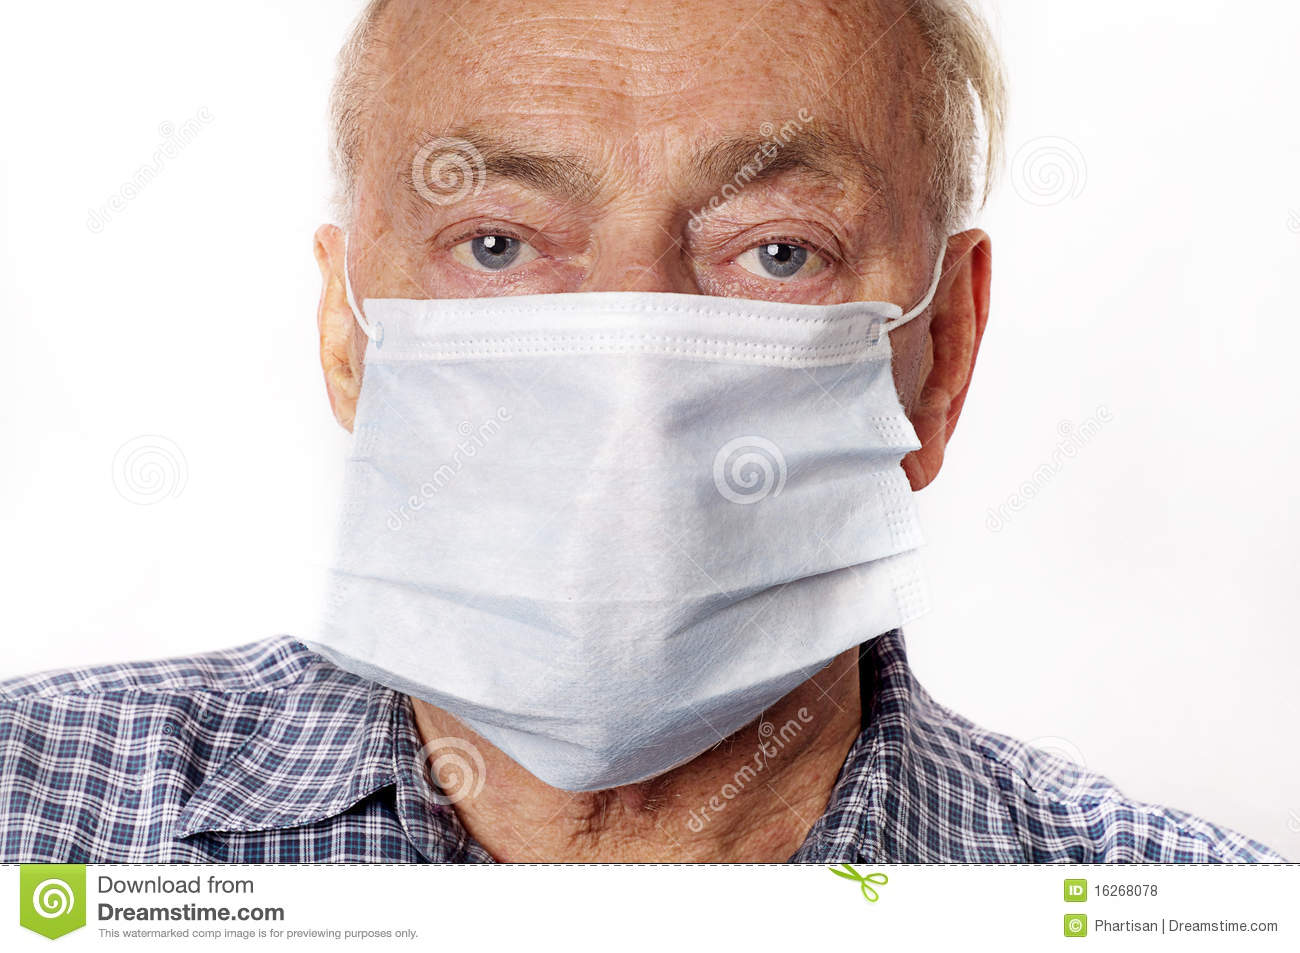mask: (358, 297, 913, 733)
